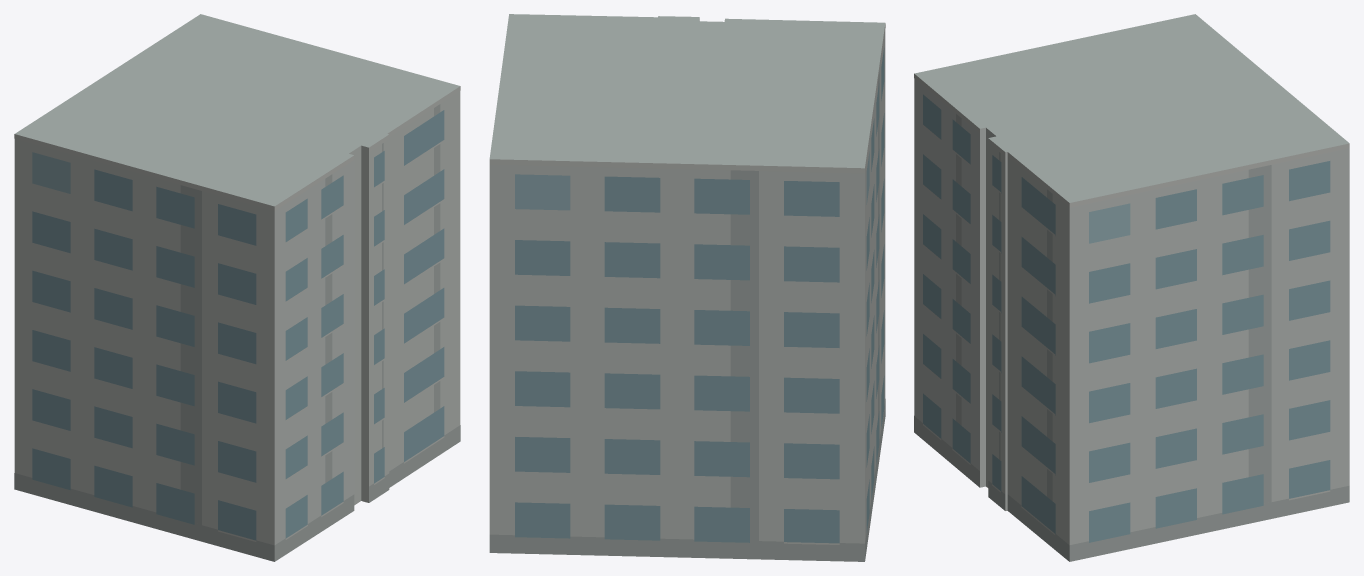
The model's file is survey-upis-32978391.glb.
3 views of the same model, side by side, from view 1: azimuth 30°, elevation 25°; view 2: azimuth 150°, elevation 25°; view 3: azimuth 270°, elevation 25° (orthographic). The views are drawn at different scales.
Visible parts, largest first — view 1: survey-upis-32978391.tmp; view 2: survey-upis-32978391.tmp; view 3: survey-upis-32978391.tmp.
Part boxes in pixels (x1,y1,x2,y2): survey-upis-32978391.tmp: (14, 14, 460, 561); survey-upis-32978391.tmp: (489, 14, 885, 561); survey-upis-32978391.tmp: (914, 14, 1349, 561).
Size of the model in its own units: 20.68 by 18.3 by 20.14.
